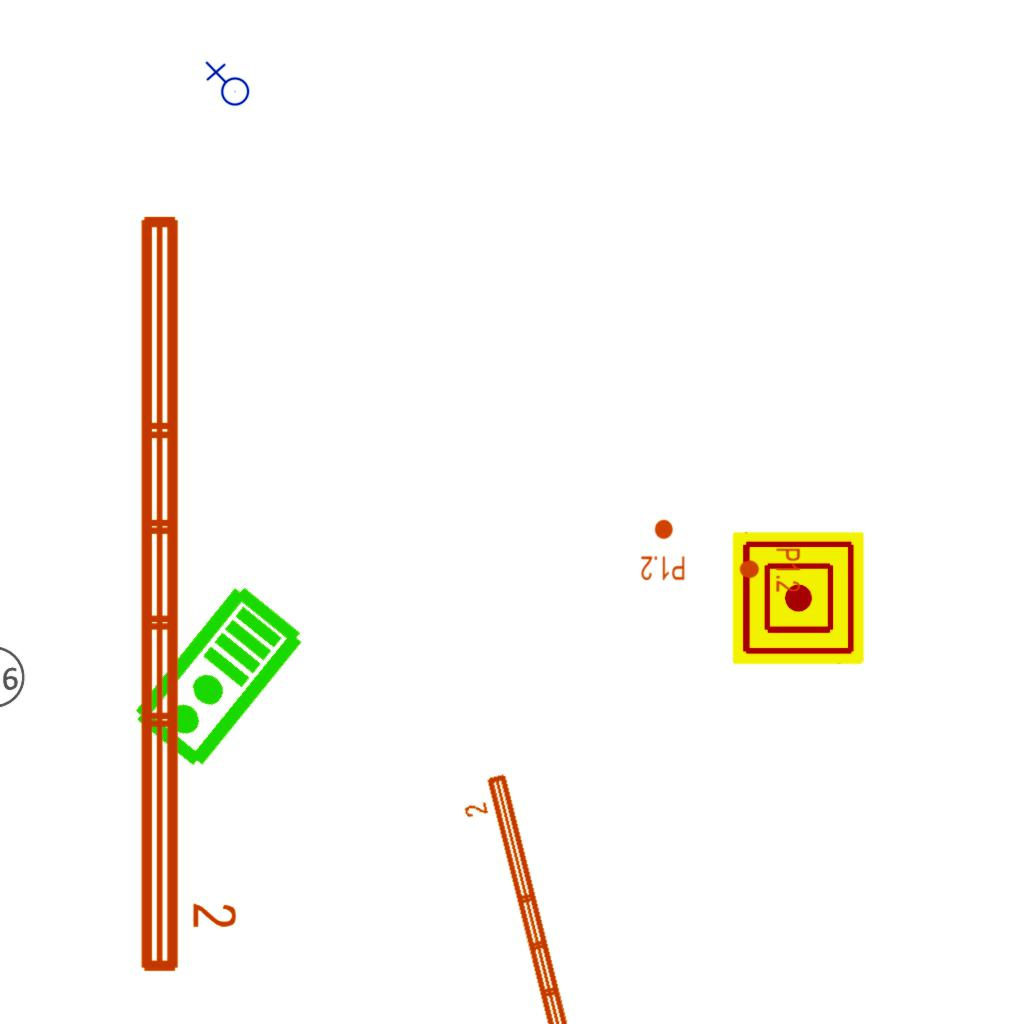Ambulanz_Pendelleuchte_LED: (129, 206, 241, 980), (455, 768, 604, 1024)
Downlight_LED_Einbauleuchten_Flur: (640, 518, 686, 582), (738, 547, 802, 593)
Elektroanschluss_allgemein_230V_Geraeteanschlussdose_230V: (203, 61, 250, 110)
Gegensprechanlage_mit_Video: (127, 579, 312, 777)
NAM-Nichtautomatischer_Melder: (732, 532, 864, 664)
